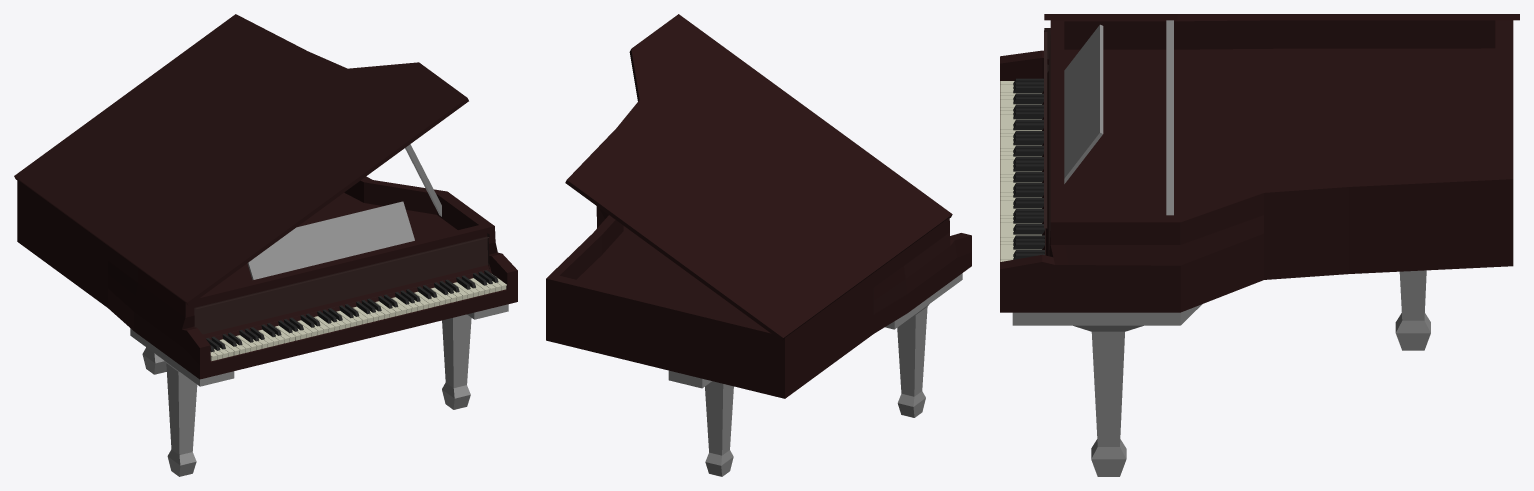
File: piano.fbx
3 views of the same model, side by side, from view 1: azimuth 30°, elevation 25°; view 2: azimuth 150°, elevation 25°; view 3: azimuth 270°, elevation 25° (orthographic). The views are drawn at different scales.
Visible parts, largest first — view 1: piano-body, keyboards; view 2: piano-body; view 3: piano-body, keyboards.
Boxes of the visible parts, x1=… form: piano-body: x1=14, y1=14, x2=517, y2=476; keyboards: x1=206, y1=270, x2=506, y2=360; piano-body: x1=546, y1=14, x2=971, y2=476; piano-body: x1=1000, y1=14, x2=1519, y2=476; keyboards: x1=1000, y1=78, x2=1044, y2=261.
Bounding box in the file's own units: 684 × 674 × 706.
